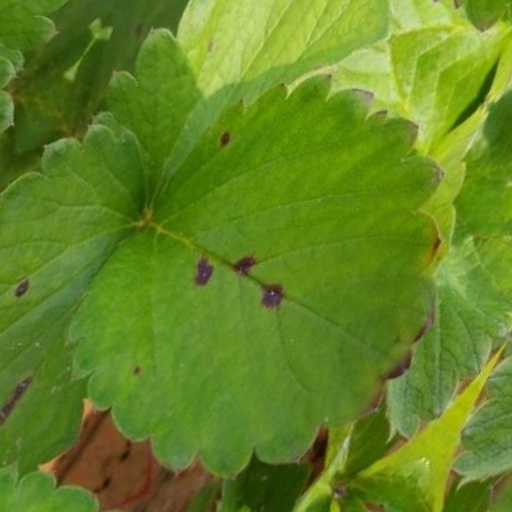Leaf Spot: (133, 55, 446, 482), (1, 222, 213, 511), (32, 0, 243, 284), (368, 0, 511, 183), (0, 50, 66, 258), (442, 456, 481, 511)
